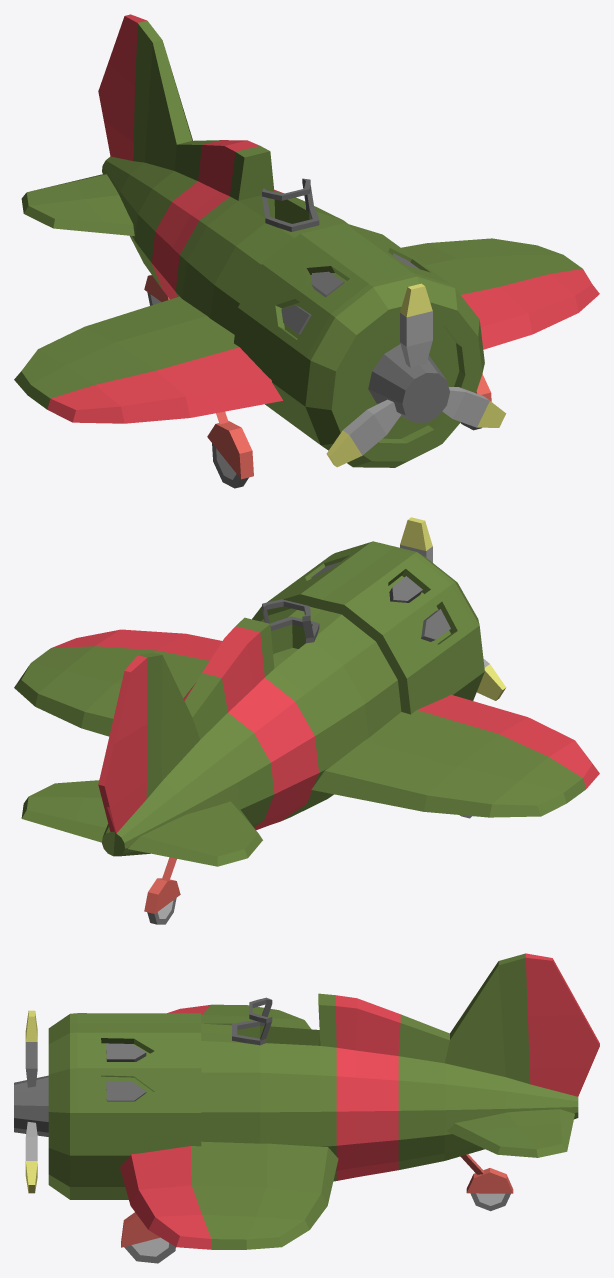
File: char_7.fbx
3 renders of one model, top to bottom at view 1: azimuth 30°, elevation 25°; view 2: azimuth 150°, elevation 25°; view 3: azimuth 270°, elevation 25°, orthographic. The views are drawn at different scales.
Parts seen in each view (by area): view 1: char_7; view 2: char_7; view 3: char_7.
Part boxes in pixels (x1=…): char_7: x1=14, y1=14, x2=599, y2=488; char_7: x1=14, y1=517, x2=599, y2=924; char_7: x1=14, y1=953, x2=599, y2=1263.
Size of the model in its own units: 197 by 98.15 by 205.
